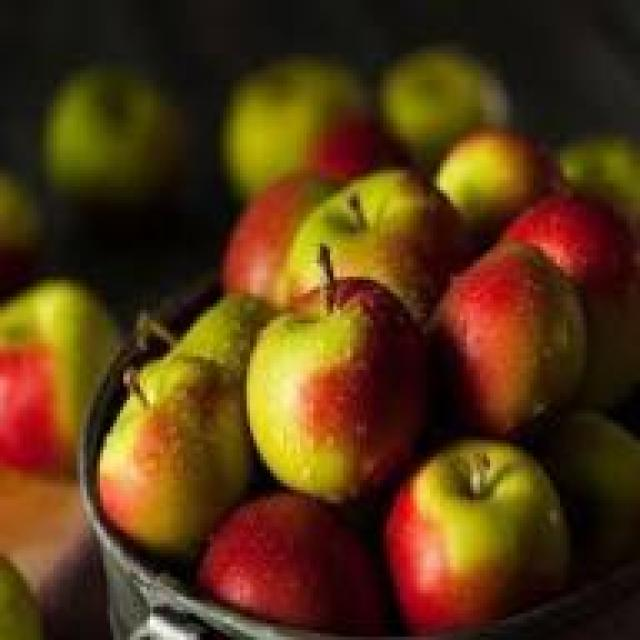apple: (254, 277, 434, 503), (386, 453, 586, 630), (443, 233, 597, 437), (100, 366, 267, 536), (290, 176, 470, 316), (206, 490, 366, 637), (213, 177, 347, 310), (430, 120, 570, 233), (500, 190, 623, 297)
